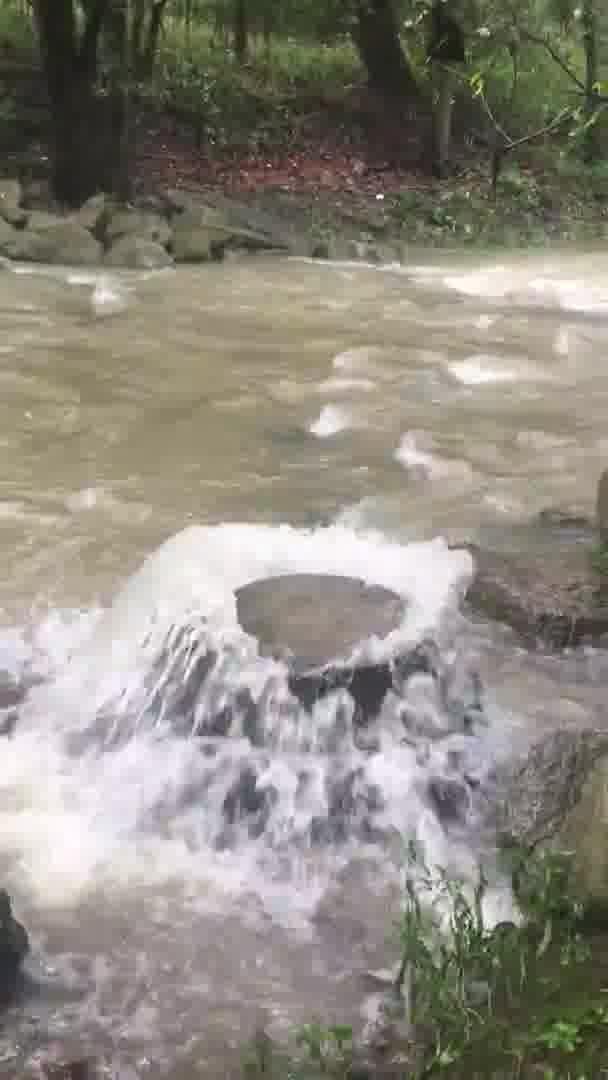drainage_overflow: (0, 418, 466, 888)
